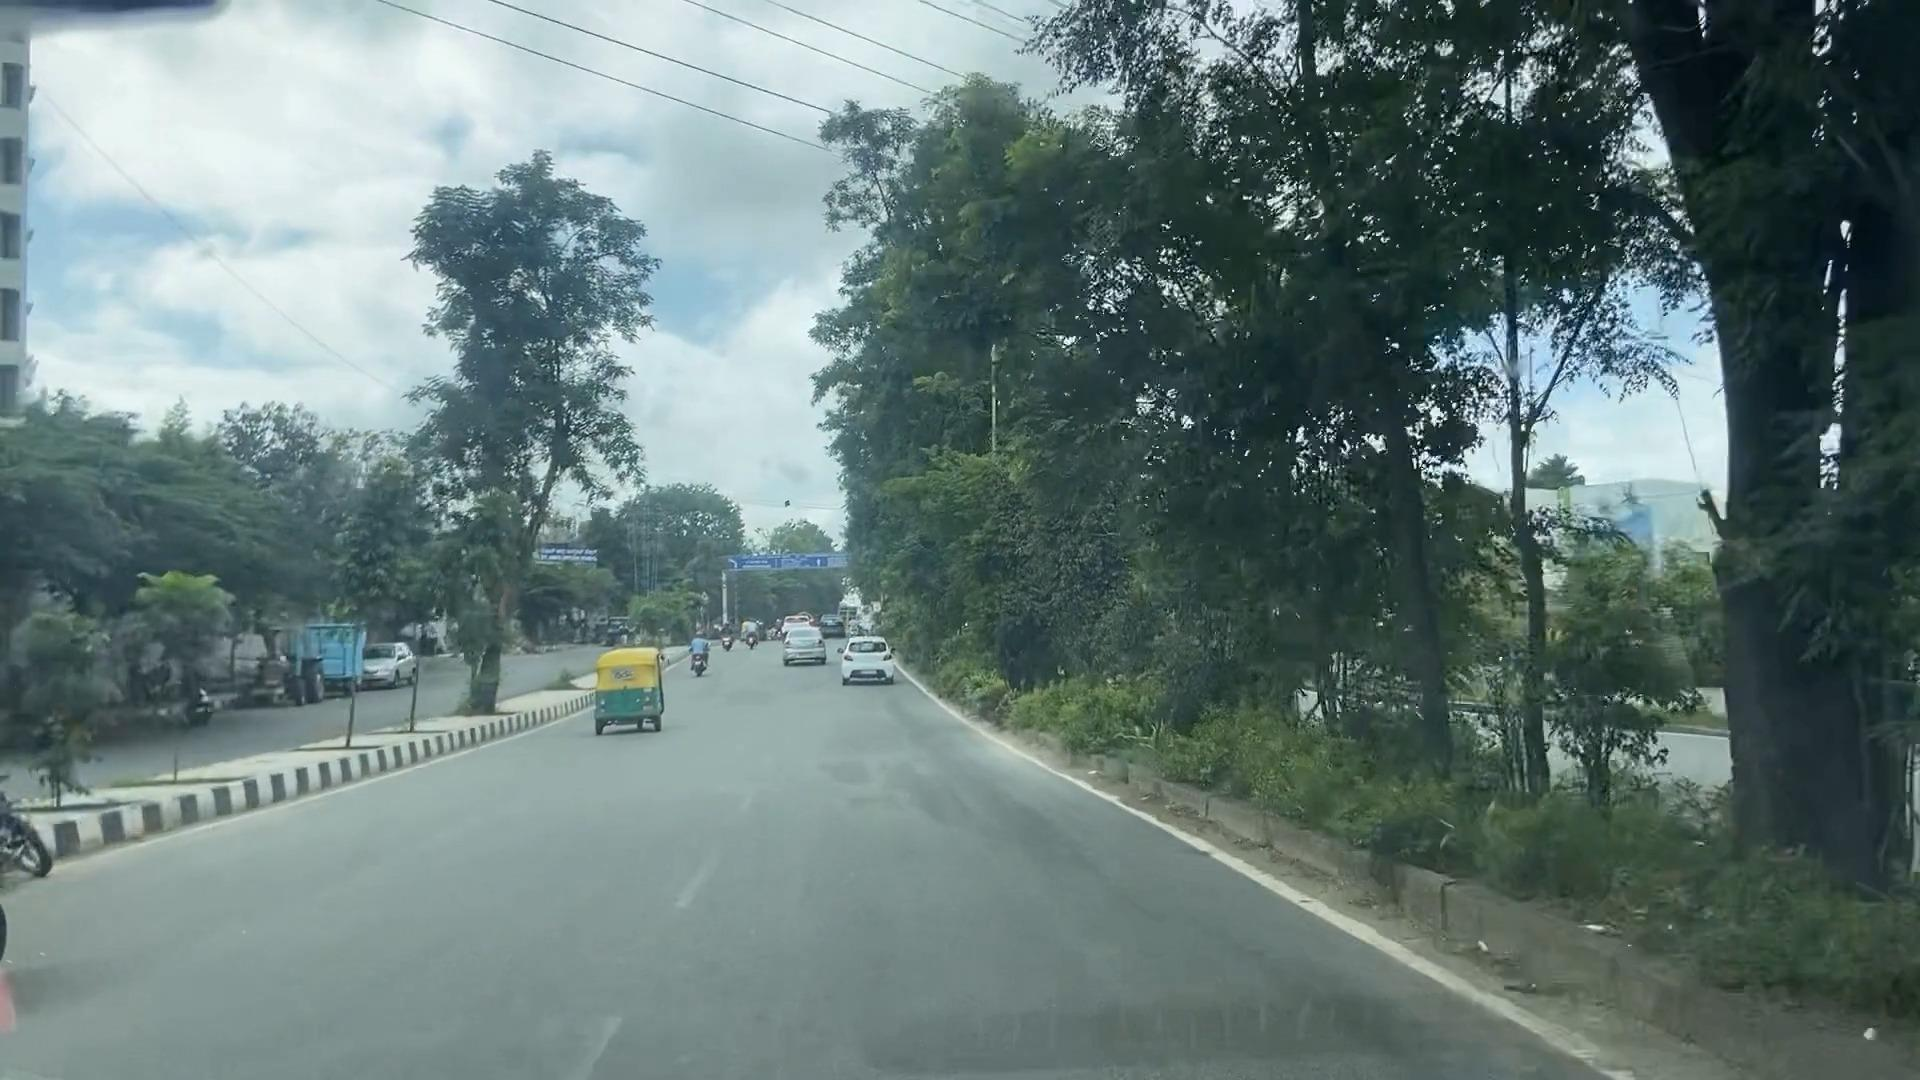LMV: (600, 647, 661, 733), (847, 634, 894, 679), (782, 622, 824, 663), (690, 632, 711, 675)
